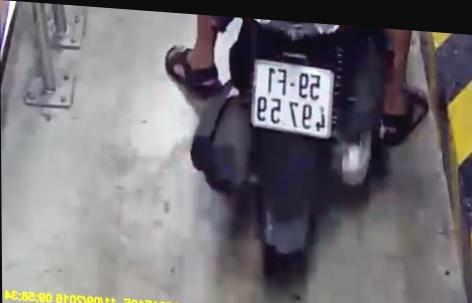License_Plate: (241, 57, 336, 139)
